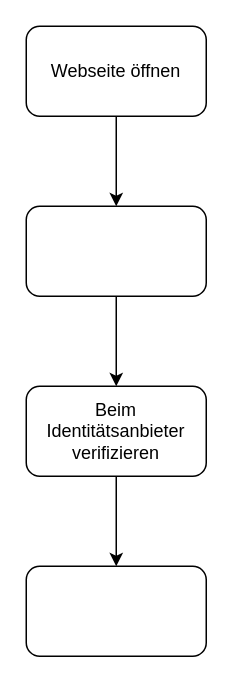
This 233x683 diagram has some shape labels left out. The centre of each missing label's shape, as x and y in pixels:
Knopf "Mit Github fortfahren" auswählen: pixel 115 250
Zurück zu AnoAsked: pixel 115 610
